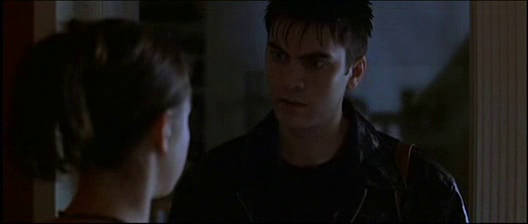face: (266, 40, 346, 128)
mcu: (1, 1, 528, 224)
ots: (8, 15, 192, 223)
person: (163, 1, 470, 223)
